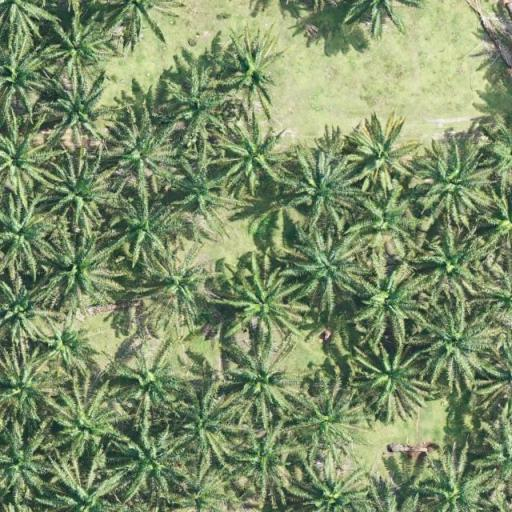Ganoderma: (358, 128, 406, 174), (230, 48, 276, 90)
